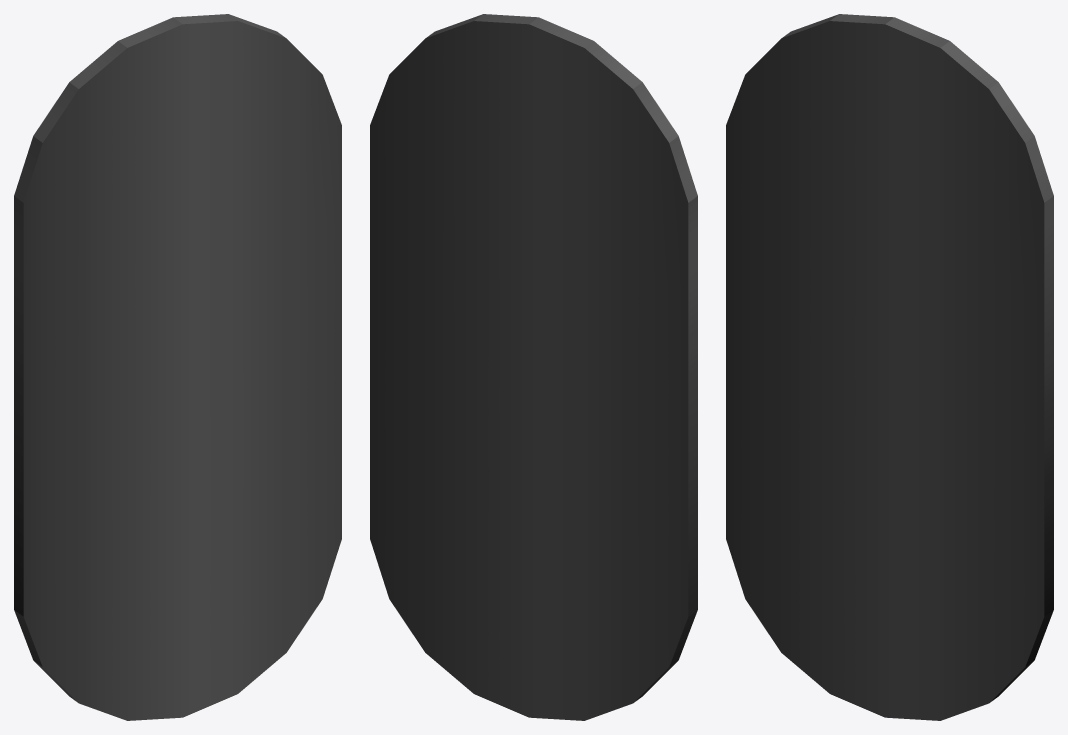
File: original-67.obj
3 renders of one model, left to right at view 1: azimuth 30°, elevation 25°; view 2: azimuth 150°, elevation 25°; view 3: azimuth 330°, elevation 25°, orthographic.
Visible parts, largest first — view 1: Group_3/mesh143/mesh143-geometry#mesh143-geometry; view 2: Group_3/mesh143/mesh143-geometry#mesh143-geometry; view 3: Group_3/mesh143/mesh143-geometry#mesh143-geometry.
Boxes of the visible parts, x1,y1,x2,y2 form: Group_3/mesh143/mesh143-geometry#mesh143-geometry: [14, 14, 341, 720]; Group_3/mesh143/mesh143-geometry#mesh143-geometry: [370, 14, 697, 720]; Group_3/mesh143/mesh143-geometry#mesh143-geometry: [726, 14, 1053, 720].
Bounding box in the file's own units: 0.0453 × 0.0943 × 0.00236.
